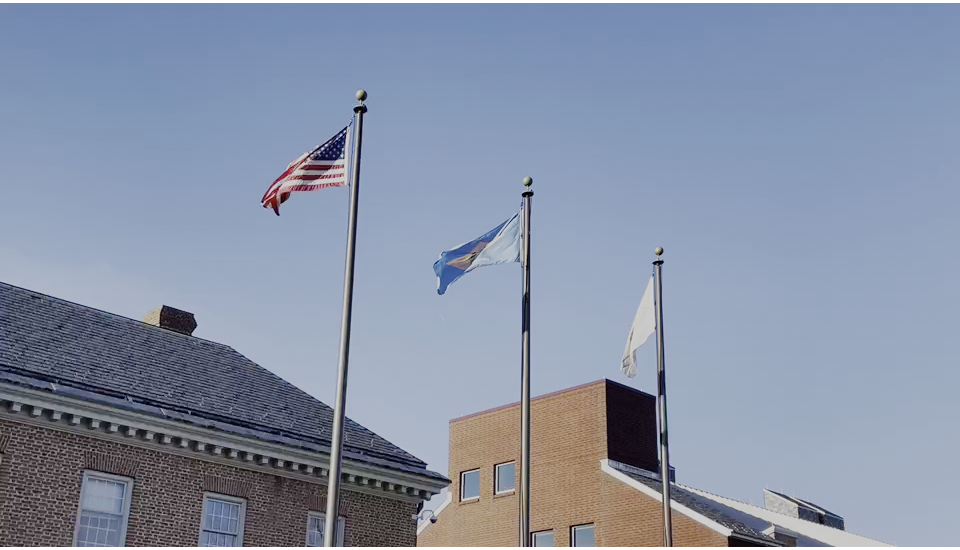America flag: (249, 115, 350, 214)
Delaware flag: (425, 206, 528, 300)
